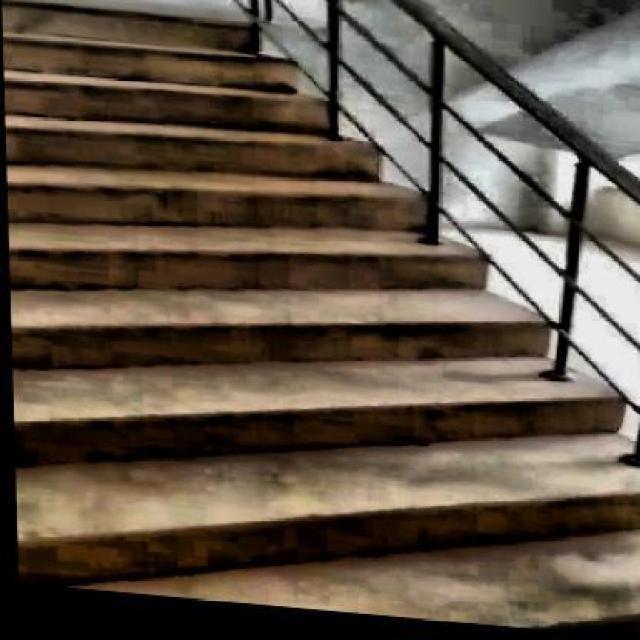stair: (3, 7, 640, 640)
